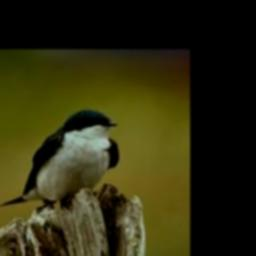Swallow: (1, 109, 119, 208)
